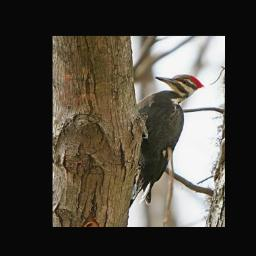Woodpecker: (128, 73, 205, 209)
